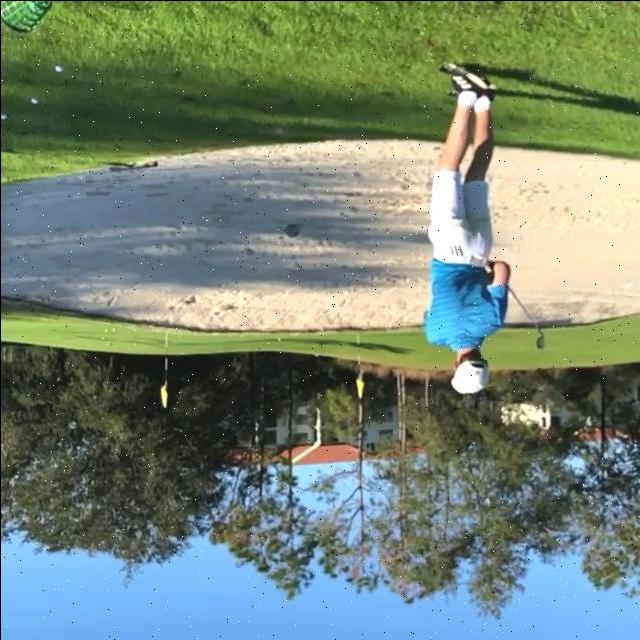golf ball: (50, 62, 65, 73), (29, 94, 40, 105), (0, 113, 8, 121)
golf club-handle: (487, 266, 546, 352)
golf club-head: (537, 330, 547, 348)
